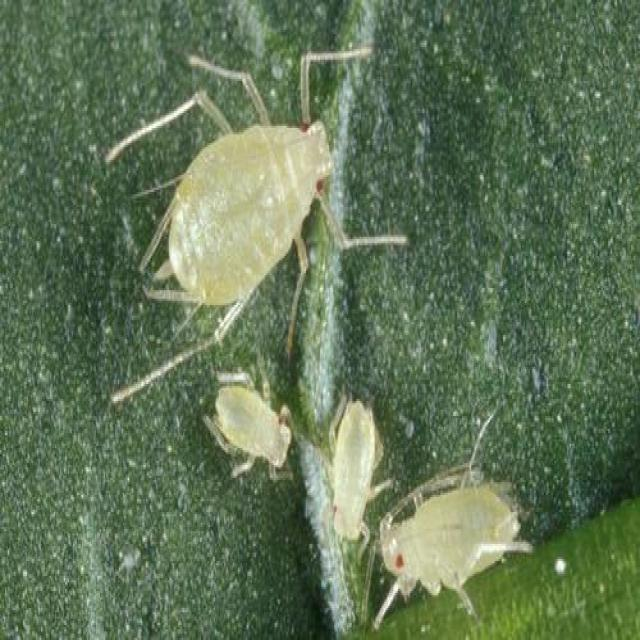Aphids: (94, 35, 421, 319), (376, 438, 544, 622), (185, 364, 329, 490), (319, 381, 399, 571)
